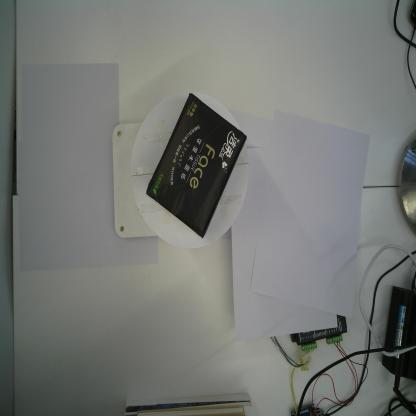Tissue: (146, 93, 247, 239)
